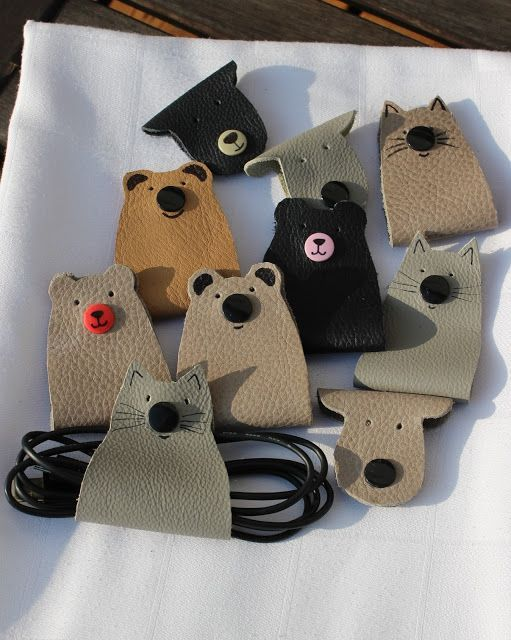cuero: (46, 60, 499, 541)
